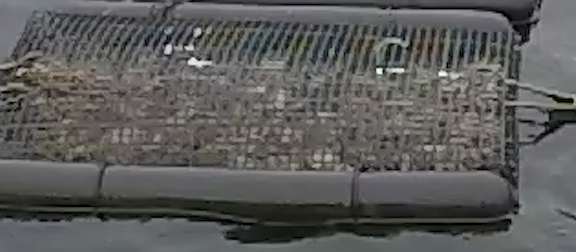bag: (1, 5, 523, 226)
